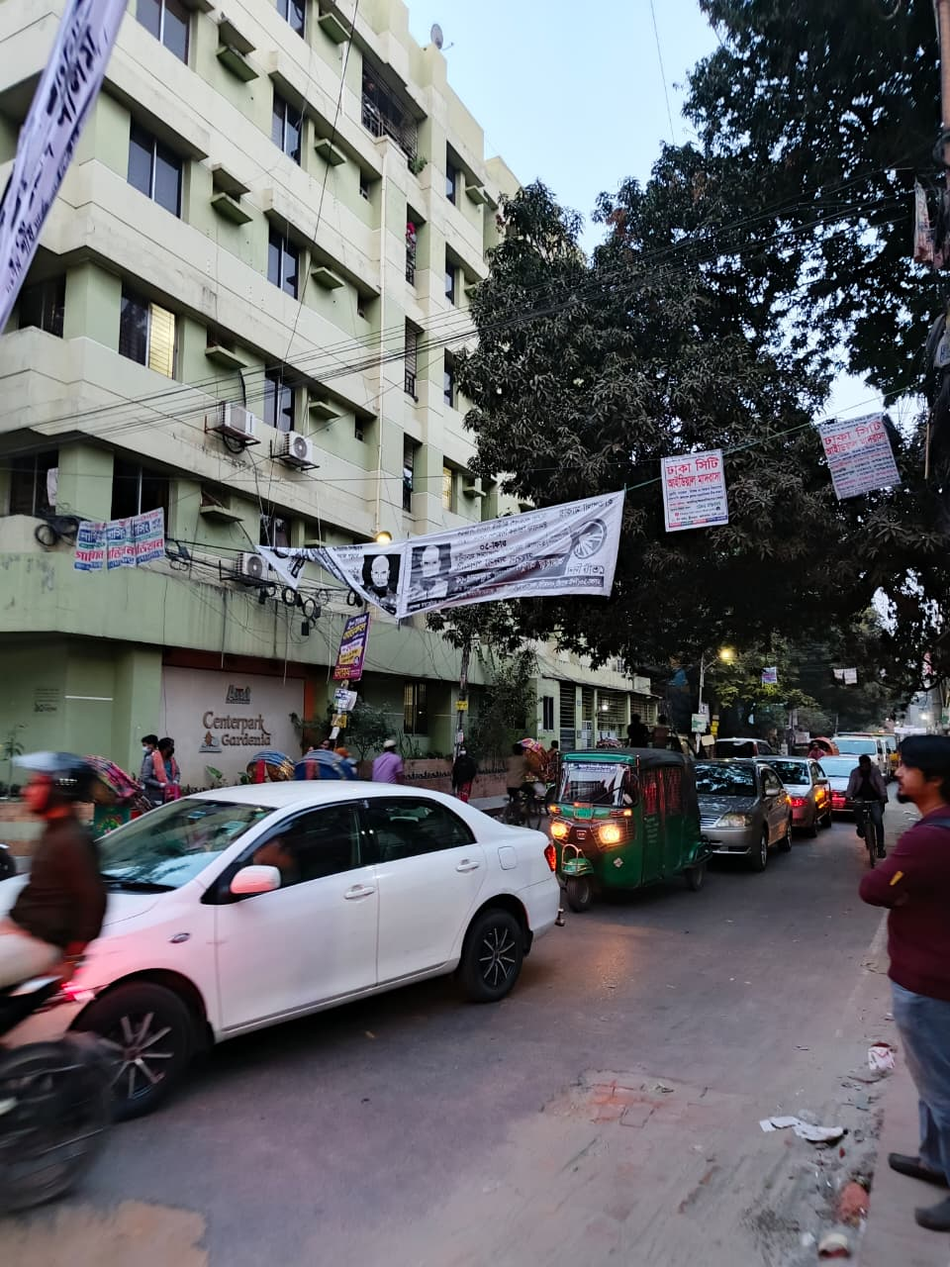cng: (534, 694, 712, 921)
private car: (0, 740, 583, 1119), (712, 740, 836, 886)
